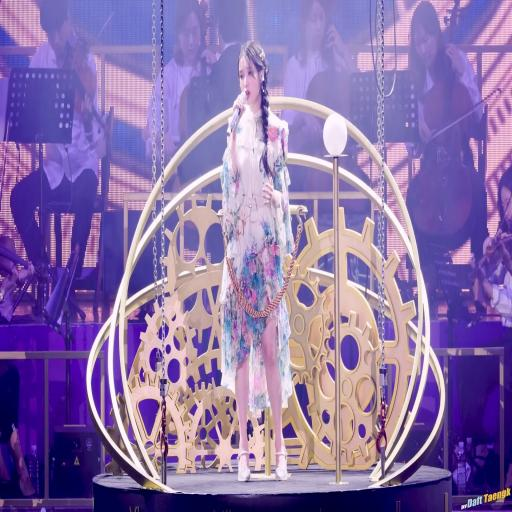IU: (238, 42, 269, 108)
